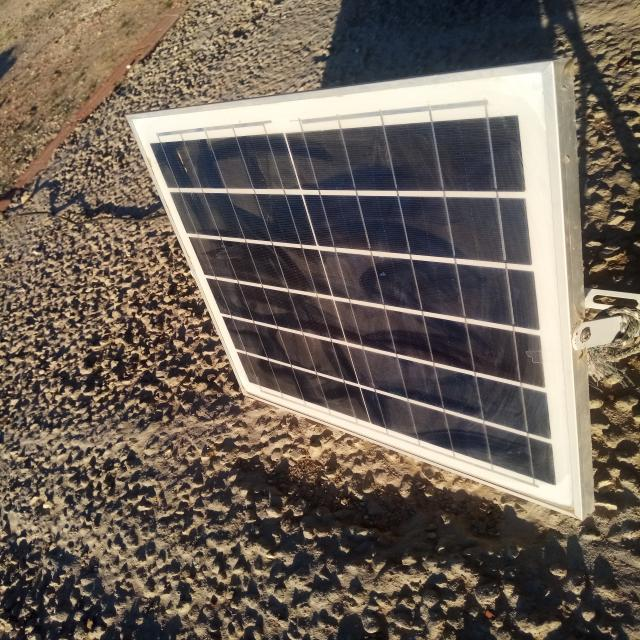faulty: (129, 68, 578, 520)
